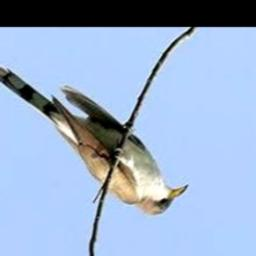Cuckoo: (0, 64, 186, 215)
